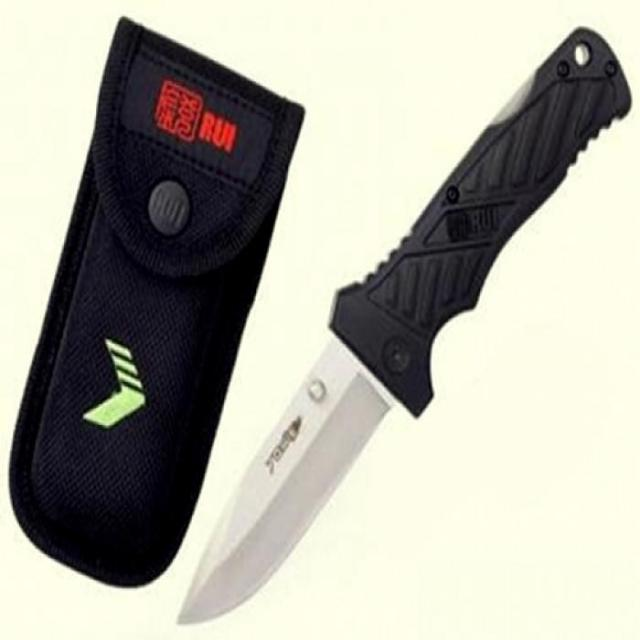knife: (162, 24, 640, 640)
